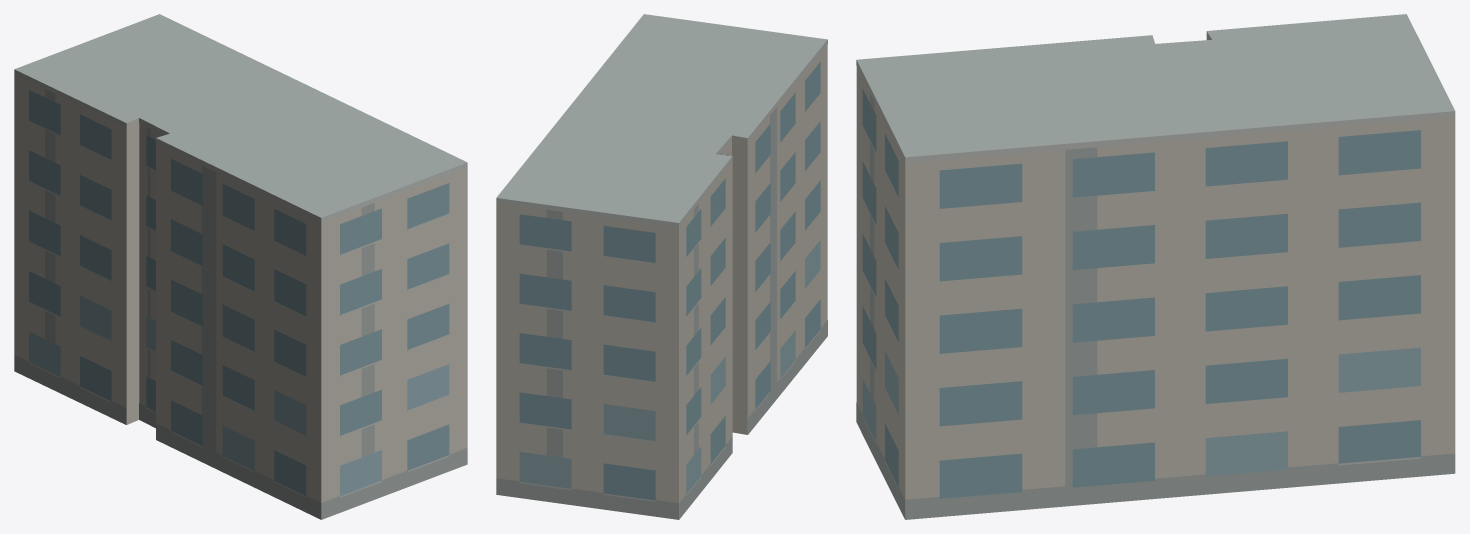
Rendered from survey-upis-32823329.glb.
3 views of the same model, side by side, from view 1: azimuth 30°, elevation 25°; view 2: azimuth 150°, elevation 25°; view 3: azimuth 270°, elevation 25° (orthographic). The views are drawn at different scales.
Visible parts, largest first — view 1: survey-upis-32823329.tmp; view 2: survey-upis-32823329.tmp; view 3: survey-upis-32823329.tmp.
Boxes of the visible parts, left/top/right/bottom form: survey-upis-32823329.tmp: left=14, top=14, right=467, bottom=519; survey-upis-32823329.tmp: left=496, top=14, right=827, bottom=519; survey-upis-32823329.tmp: left=856, top=14, right=1455, bottom=519.
Bounding box in the file's own units: 12.56 × 14.8 × 22.17.
